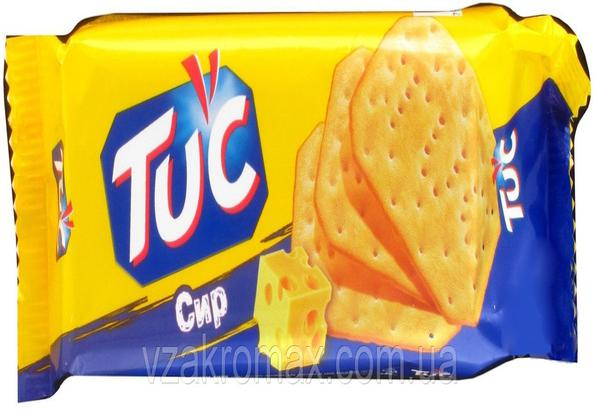crackers tuc: (30, 19, 552, 377)
